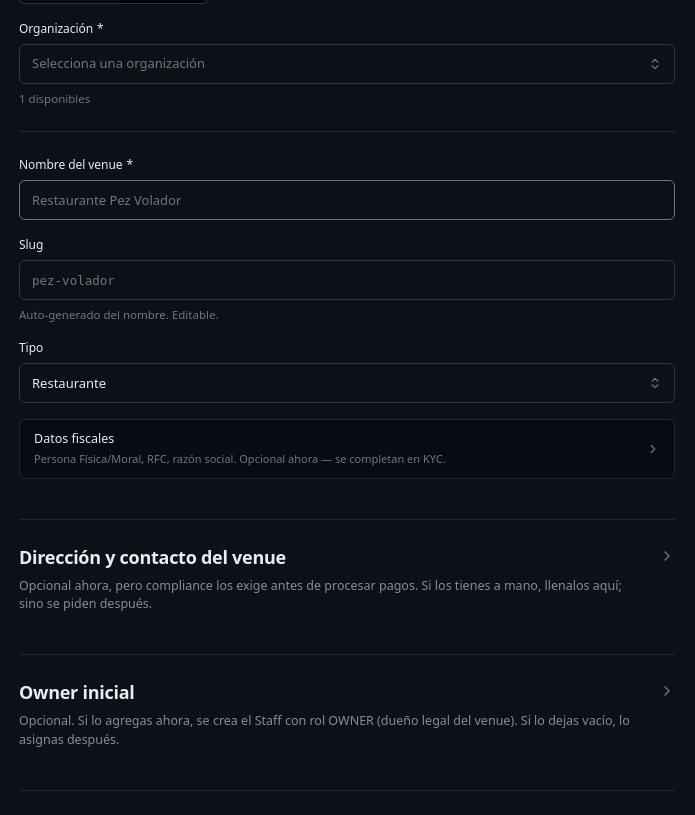
NewVenuePage › al expandir "Datos fiscales" y elegir Persona Moral, se exige RFC
(page scrolled)
Open the fiscal subsection (button text: "Datos fiscales")
Click the button "Datos fiscales": coordinates (347, 449) x1=20 y1=420 x2=674 y2=478
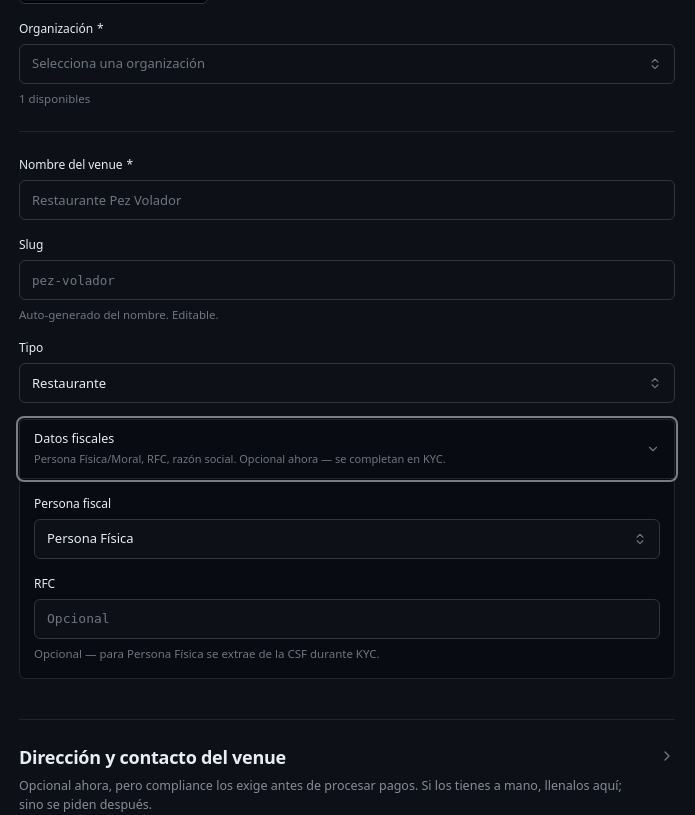
Expected: the field labelled "RFC" is shown, x1=34 y1=598 x2=660 y2=638
